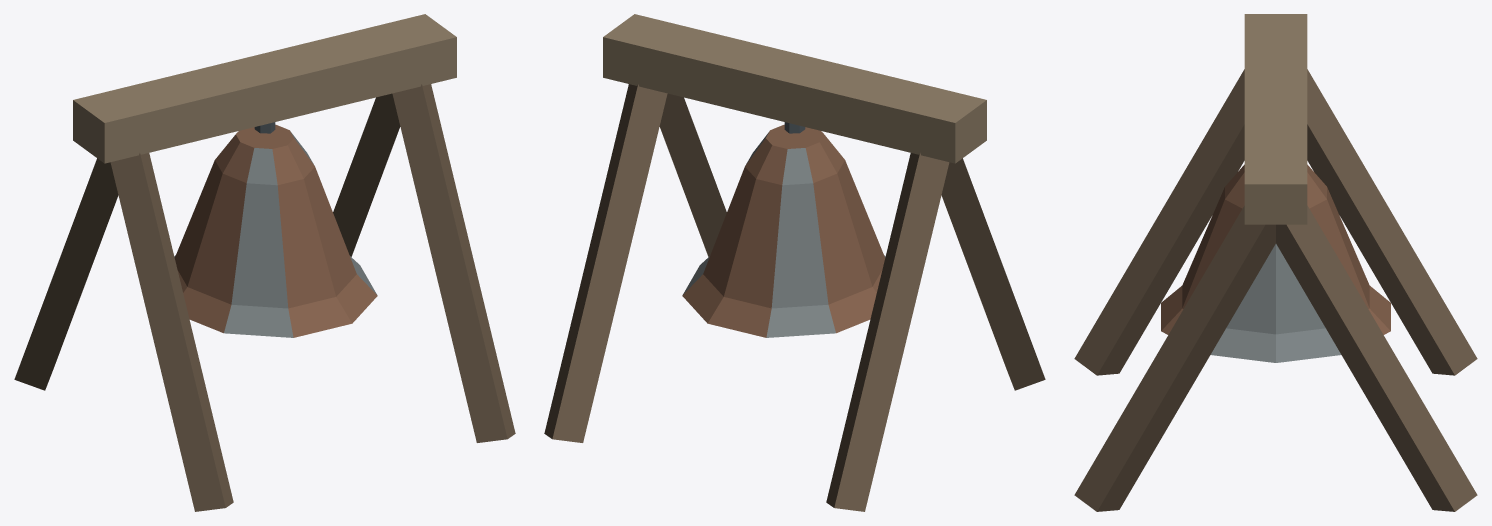
Rendered from bell_frame.glb.
The picture shows the model from 3 angles, left to right: view 1: azimuth 30°, elevation 25°; view 2: azimuth 150°, elevation 25°; view 3: azimuth 270°, elevation 25°; orthographic projection.
Visible parts, largest first — view 1: bell_frame; view 2: bell_frame; view 3: bell_frame.
Part boxes in pixels (left/top/right/bottom): bell_frame: left=14, top=14, right=515, bottom=511; bell_frame: left=544, top=14, right=1045, bottom=511; bell_frame: left=1074, top=14, right=1477, bottom=511.
Size of the model in its own units: 2.88 by 2.7 by 2.88.
